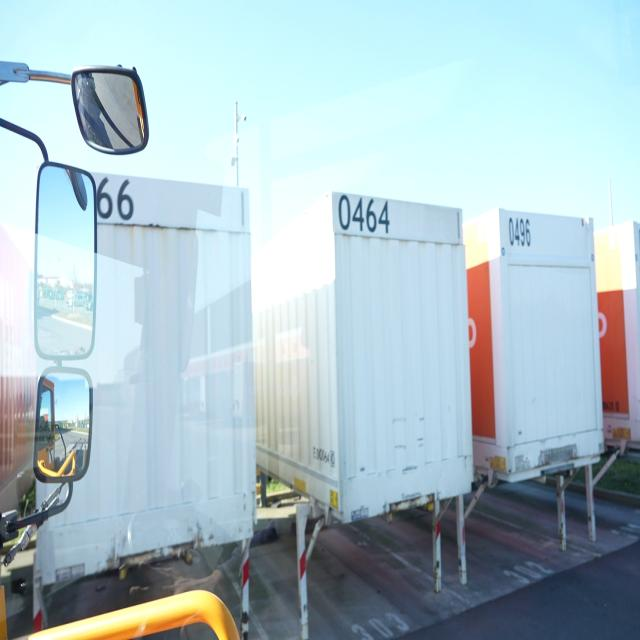Code: (334, 189, 396, 241), (503, 210, 537, 258)
